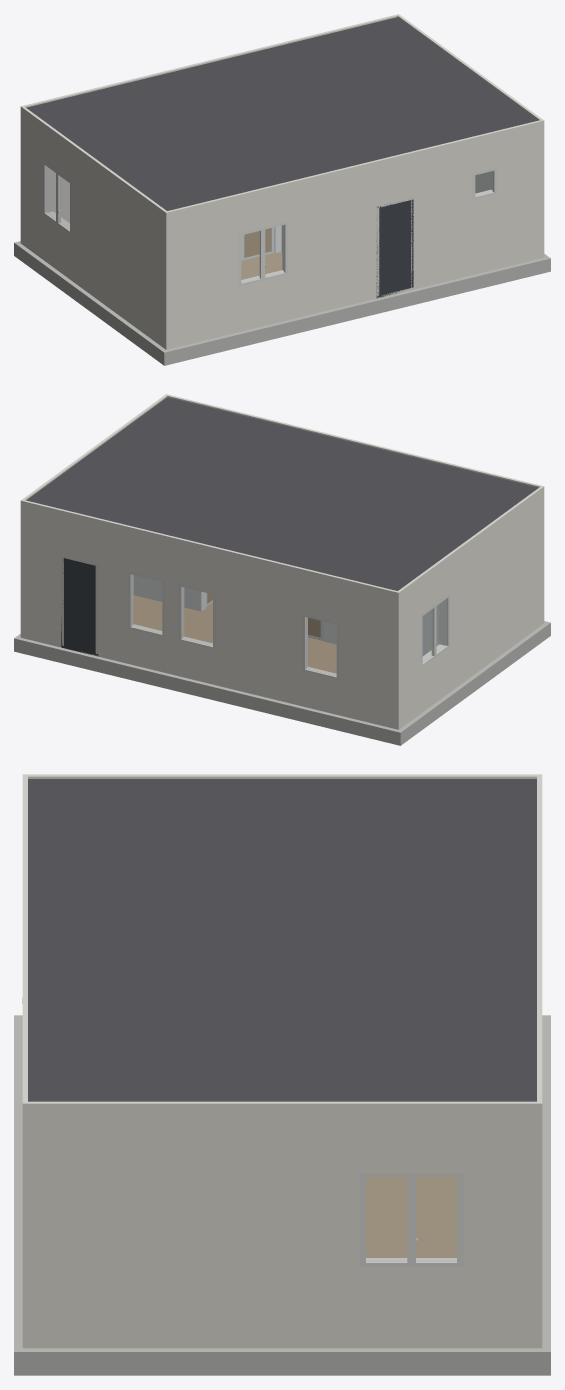
The picture shows the model from 3 angles, top to bottom: view 1: azimuth 30°, elevation 25°; view 2: azimuth 150°, elevation 25°; view 3: azimuth 270°, elevation 25°; orthographic projection. The views are drawn at different scales.
Parts seen in each view (by area): view 1: DC-cob-DC-T1-deck-laje, DC-par-DC-T1-ext-00-solido-2.91m, DC-par-DC-T1-ext-03-solido-1.86m, DC-par-DC-T1-ext-00-solido-0.00m, DC-plinto, DC-cob-DC-T1-deck-fascia-s, DC-par-DC-T1-ext-00-solido-5.90m, DC-par-DC-T1-ext-00-solido-7.88m, DC-par-DC-T1-ext-00-porta-5.45m, DC-cob-DC-T1-deck-fascia-o, DC-par-DC-T1-ext-00-peitoril-1.71m, DC-par-DC-T1-ext-03-solido-0.00m (+15 smaller); view 2: DC-cob-DC-T1-deck-laje, DC-par-DC-T1-ext-03-solido-1.86m, DC-par-DC-T1-ext-02-solido-4.65m, DC-plinto, DC-par-DC-T1-ext-02-solido-7.59m, DC-cob-DC-T1-deck-fascia-n, DC-par-DC-T1-ext-02-solido-0.00m, DC-par-DC-T1-ext-02-solido-1.86m, DC-cob-DC-T1-deck-fascia-o, DC-par-DC-T1-ext-02-porta-1.41m, DC-pavimento-int, DC-par-DC-T1-ext-03-solido-0.00m (+20 smaller); view 3: DC-cob-DC-T1-deck-laje, DC-par-DC-T1-ext-01-solido-0.00m, DC-plinto, DC-cob-DC-T1-deck-fascia-e, DC-par-DC-T1-ext-01-solido-4.84m, DC-par-DC-T1-ext-01-peitoril-3.64m, DC-pavimento-int, DC-par-DC-T1-ext-00-solido-7.88m, DC-par-DC-T1-ext-02-solido-0.00m, DC-par-DC-T1-ext-01-padieira-3.64m, DC-par-DC-T1-ext-01-vidro-4.24m-0, DC-par-DC-T1-ext-01-vidro-4.24m-1 (+3 smaller).
Part boxes in pixels (x1,y1,x2,y2): DC-cob-DC-T1-deck-laje: (26,17,538,210); DC-par-DC-T1-ext-00-solido-2.91m: (282,180,376,319); DC-par-DC-T1-ext-03-solido-1.86m: (71,162,159,344); DC-par-DC-T1-ext-00-solido-0.00m: (160,213,237,349); DC-plinto: (14,241,550,365); DC-cob-DC-T1-deck-fascia-s: (164,119,544,230); DC-par-DC-T1-ext-00-solido-5.90m: (414,156,472,289); DC-par-DC-T1-ext-00-solido-7.88m: (491,139,544,268); DC-par-DC-T1-ext-00-porta-5.45m: (376,199,413,298); DC-cob-DC-T1-deck-fascia-o: (22,107,166,229); DC-par-DC-T1-ext-00-peitoril-1.71m: (238,270,288,332); DC-par-DC-T1-ext-03-solido-0.00m: (26,129,53,258); DC-cob-DC-T1-deck-laje: (26,397,538,590); DC-par-DC-T1-ext-03-solido-1.86m: (439,509,538,691); DC-par-DC-T1-ext-02-solido-4.65m: (216,566,307,706); DC-plinto: (14,621,550,745); DC-par-DC-T1-ext-02-solido-7.59m: (339,597,404,729); DC-cob-DC-T1-deck-fascia-n: (20,499,400,610); DC-par-DC-T1-ext-02-solido-0.00m: (20,519,60,647); DC-par-DC-T1-ext-02-solido-1.86m: (98,538,133,663); DC-cob-DC-T1-deck-fascia-o: (398,487,542,609); DC-par-DC-T1-ext-02-porta-1.41m: (61,558,98,656); DC-pavimento-int: (133,595,336,673); DC-par-DC-T1-ext-03-solido-0.00m: (405,595,420,724); DC-cob-DC-T1-deck-laje: (28,779,536,1101); DC-par-DC-T1-ext-01-solido-0.00m: (44,1136,359,1348); DC-plinto: (14,1015,550,1375); DC-cob-DC-T1-deck-fascia-e: (28,1101,536,1136); DC-par-DC-T1-ext-01-solido-4.84m: (463,1136,520,1348); DC-par-DC-T1-ext-01-peitoril-3.64m: (359,1258,463,1348); DC-pavimento-int: (366,1176,456,1257); DC-par-DC-T1-ext-00-solido-7.88m: (22,1136,44,1348); DC-par-DC-T1-ext-02-solido-0.00m: (520,1136,542,1348); DC-par-DC-T1-ext-01-padieira-3.64m: (359,1136,463,1172); DC-par-DC-T1-ext-01-vidro-4.24m-0: (366,1177,406,1261); DC-par-DC-T1-ext-01-vidro-4.24m-1: (416,1177,456,1261).
Size of what is drawn, in the model's own units: 9.2 by 3.42 by 6.2.
